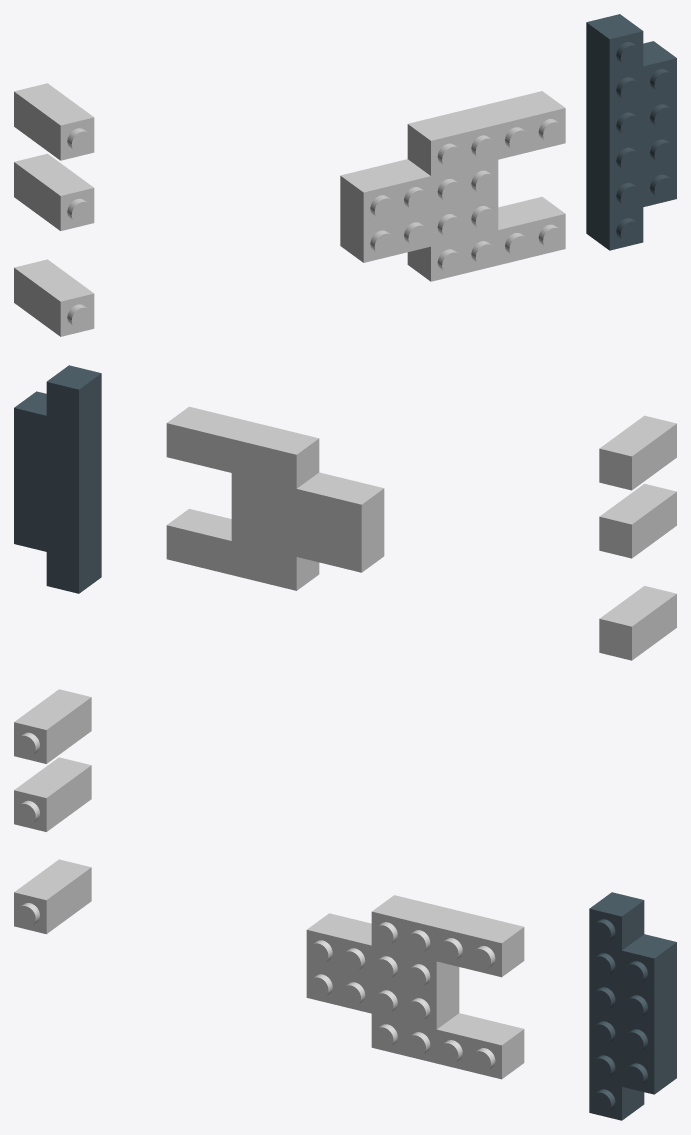
The model's file is full.glb.
3 views of the same model, one above another, from view 1: azimuth 30°, elevation 25°; view 2: azimuth 150°, elevation 25°; view 3: azimuth 330°, elevation 25° (orthographic). The views are drawn at different scales.
Visible parts, largest first — view 1: world; view 2: world; view 3: world.
Boxes of the visible parts, x1,y1,x2,y2 form: world: [14, 14, 676, 336]; world: [14, 365, 676, 660]; world: [14, 689, 676, 1120].
Size of the model in its own units: 152 by 64 by 21.
